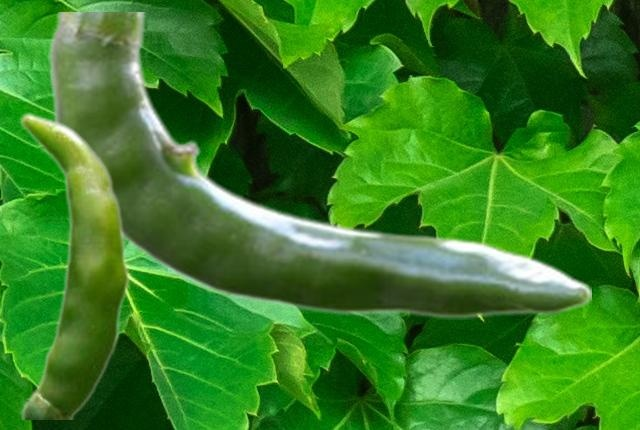green_chili: (48, 12, 590, 318), (18, 111, 130, 418)
